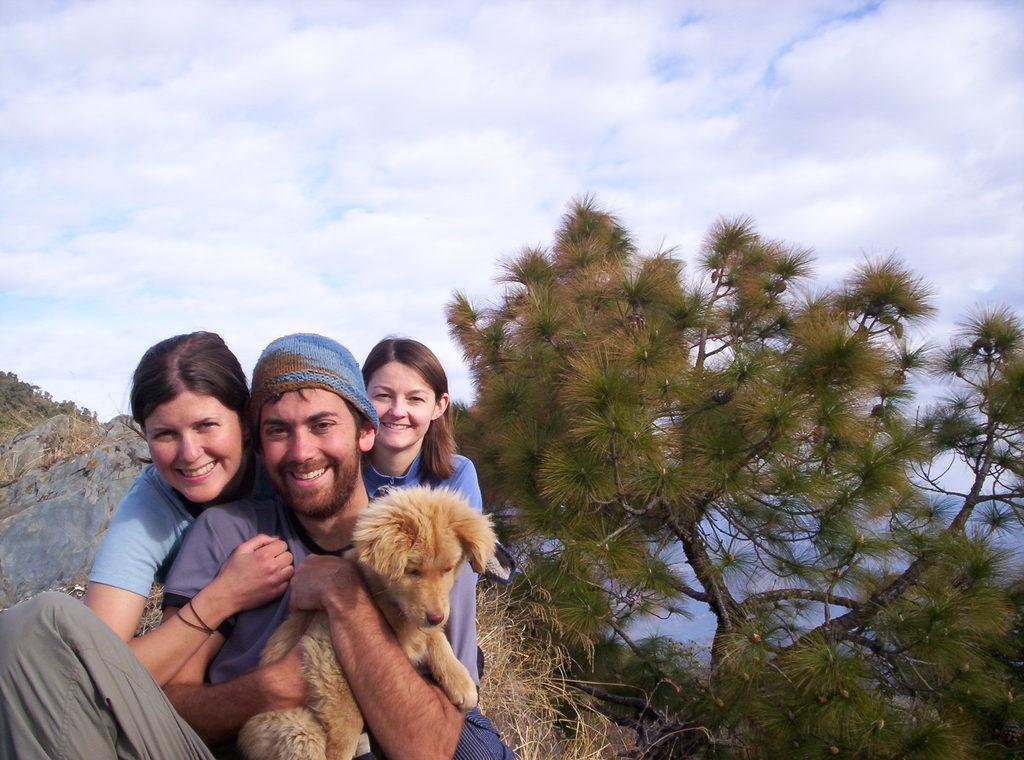Sem Máscara: (255, 386, 363, 523), (140, 390, 244, 507), (360, 356, 435, 451)
